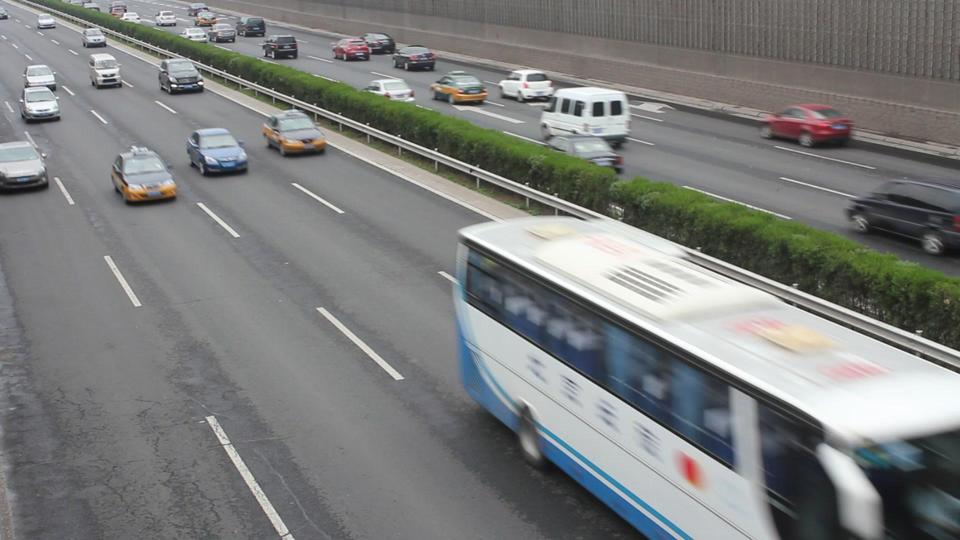bus: (447, 212, 958, 539)
car: (843, 177, 960, 256), (758, 103, 856, 148), (110, 145, 179, 204), (545, 134, 625, 175), (260, 109, 327, 156), (185, 128, 250, 176), (0, 140, 49, 193), (429, 72, 489, 105), (498, 70, 554, 102), (18, 85, 63, 122), (86, 52, 123, 89), (362, 78, 416, 102), (391, 46, 438, 72), (331, 38, 373, 61), (22, 65, 59, 91), (211, 19, 242, 44), (366, 31, 394, 51), (83, 25, 106, 45), (35, 10, 58, 29), (241, 16, 264, 34), (175, 34, 214, 44), (153, 11, 175, 28), (198, 10, 215, 28), (122, 12, 138, 26), (109, 3, 127, 15), (193, 3, 205, 13)
truck: (538, 86, 633, 147), (158, 58, 205, 95), (261, 34, 300, 60)
